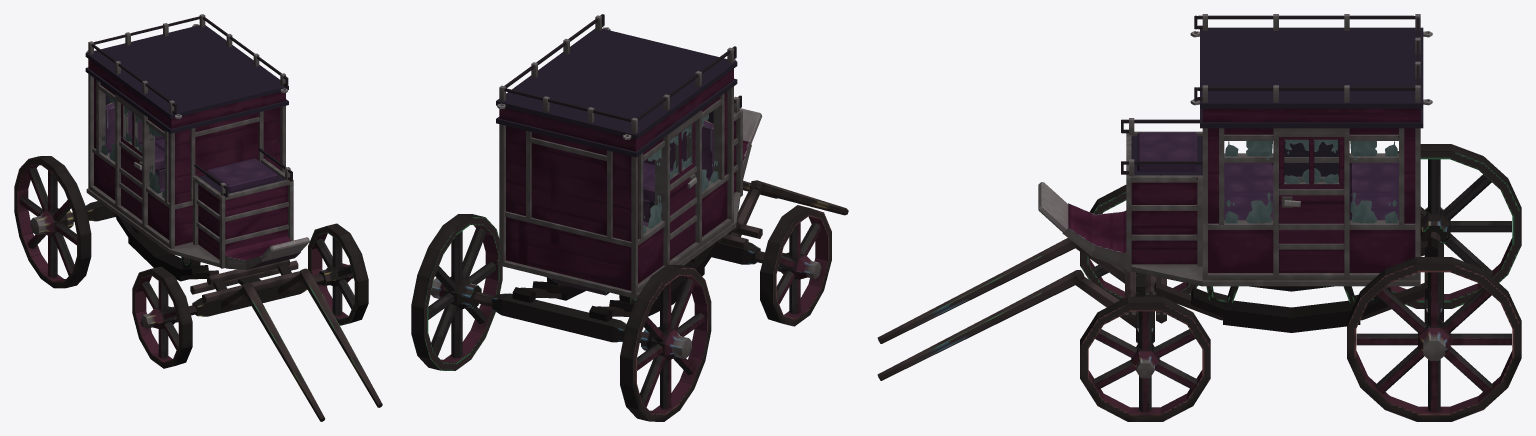
Rendered from OOS_carriage2.fbx.
The picture shows the model from 3 angles, left to right: view 1: azimuth 30°, elevation 25°; view 2: azimuth 150°, elevation 25°; view 3: azimuth 270°, elevation 25°; orthographic projection. The views are drawn at different scales.
Visible parts, largest first — view 1: roof1_b, wall3_a.015, base2, large_wheel1_a, small_wheel1_a, small_wheel1_b, roof2, axle13_b, axle3_a, axle3_b, coachman1, coachman2 (+39 smaller); view 2: wall3_a.013, roof1_b, large_wheel1_a, large_wheel1_b, small_wheel1_a, axle6_b, roof2, roof1_a, door7_b, base1, trim5_d, large_wheel3_g (+36 smaller); view 3: roof1_b, large_wheel1_b, base2, small_wheel1_b, door7_a, axle13_a, large_wheel1_a, roof2, wall3_a.001, coachman2, wall3_a.002, axle3_a (+40 smaller).
Boxes of the visible parts, x1,y1,x2,y2 form: roof1_b: (85, 25, 288, 118); wall3_a.015: (176, 108, 276, 245); base2: (198, 161, 287, 259); large_wheel1_a: (14, 156, 91, 288); small_wheel1_a: (132, 266, 192, 368); small_wheel1_b: (308, 223, 368, 325); roof2: (88, 59, 285, 128); axle13_b: (116, 215, 208, 281); axle3_a: (299, 268, 382, 407); axle3_b: (242, 282, 325, 421); coachman1: (206, 158, 277, 192); coachman2: (225, 236, 300, 269); wall3_a.013: (510, 127, 629, 290); roof1_b: (496, 28, 737, 139); large_wheel1_a: (620, 264, 711, 421); large_wheel1_b: (411, 214, 502, 370); small_wheel1_a: (760, 205, 831, 326); axle6_b: (492, 293, 626, 342); roof2: (499, 69, 733, 151); roof1_a: (496, 78, 737, 157); door7_b: (670, 162, 695, 260); base1: (497, 222, 735, 298); trim5_d: (655, 133, 669, 265); large_wheel3_g: (431, 227, 486, 356); roof1_b: (1200, 27, 1423, 108); large_wheel1_b: (1347, 257, 1521, 421); base2: (1131, 136, 1202, 264); small_wheel1_b: (1080, 296, 1210, 421); door7_a: (1279, 182, 1344, 272); axle13_a: (1191, 287, 1391, 332); large_wheel1_a: (1385, 144, 1521, 308); roof2: (1202, 108, 1420, 122); wall3_a.001: (1208, 230, 1273, 273); coachman2: (1062, 203, 1126, 269); wall3_a.002: (1349, 230, 1415, 272); axle3_a: (877, 270, 1084, 380).
Bounding box in the file's own units: 369 × 394 × 738.
